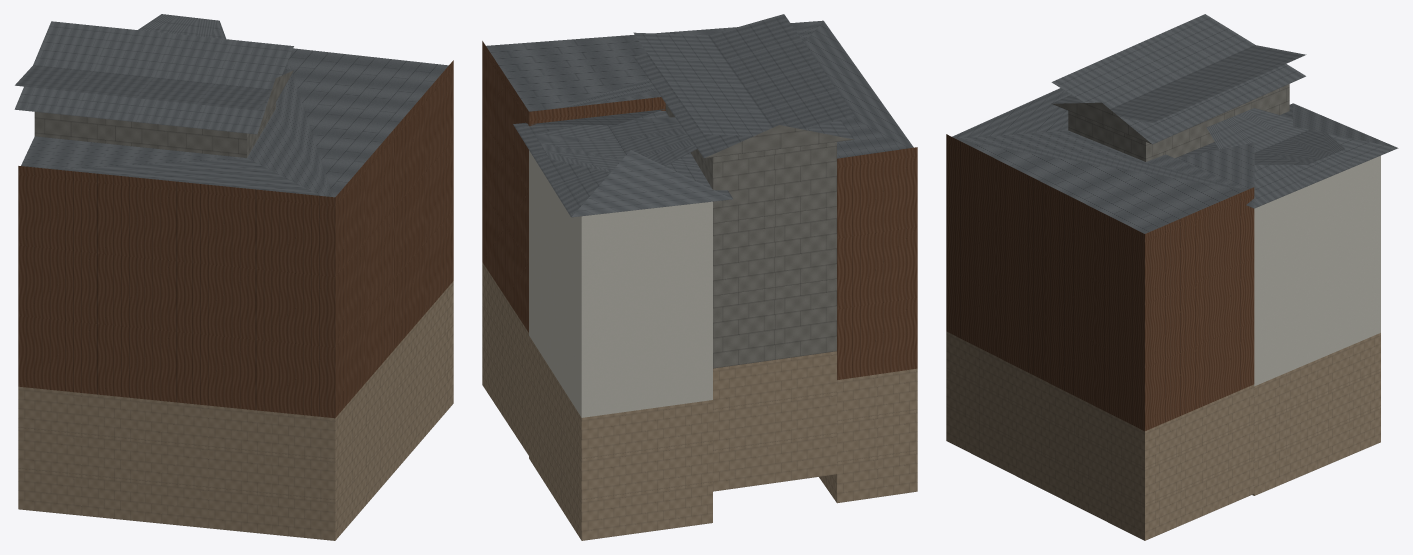
The model's file is bld_c44_33_254.gltf.
The picture shows the model from 3 angles, left to right: view 1: azimuth 30°, elevation 25°; view 2: azimuth 150°, elevation 25°; view 3: azimuth 270°, elevation 25°; orthographic projection. The views are drawn at different scales.
Parts seen in each view (by area): view 1: bld_c44_33_254; view 2: bld_c44_33_254; view 3: bld_c44_33_254.
Boxes of the visible parts, box(x1,y1,x2,y2) form: bld_c44_33_254: box(14, 14, 453, 540); bld_c44_33_254: box(482, 14, 917, 540); bld_c44_33_254: box(946, 14, 1398, 540).
Size of the model in its own units: 18.91 by 16.4 by 19.07.
Materials: 7 (7 with a texture image).
